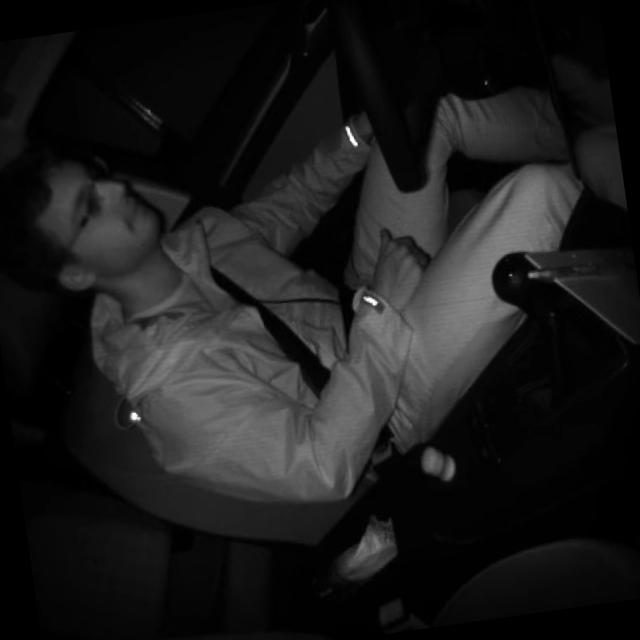pen: (524, 254, 636, 284)
